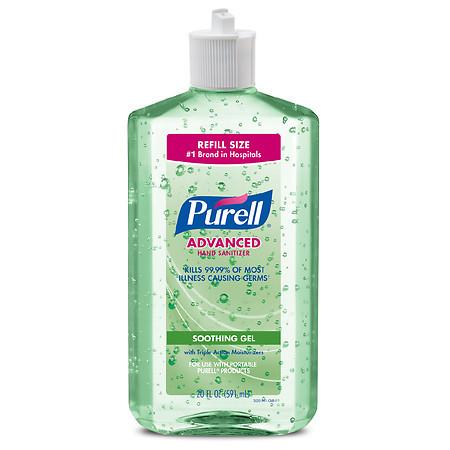Sanitizer: (124, 5, 322, 445)
